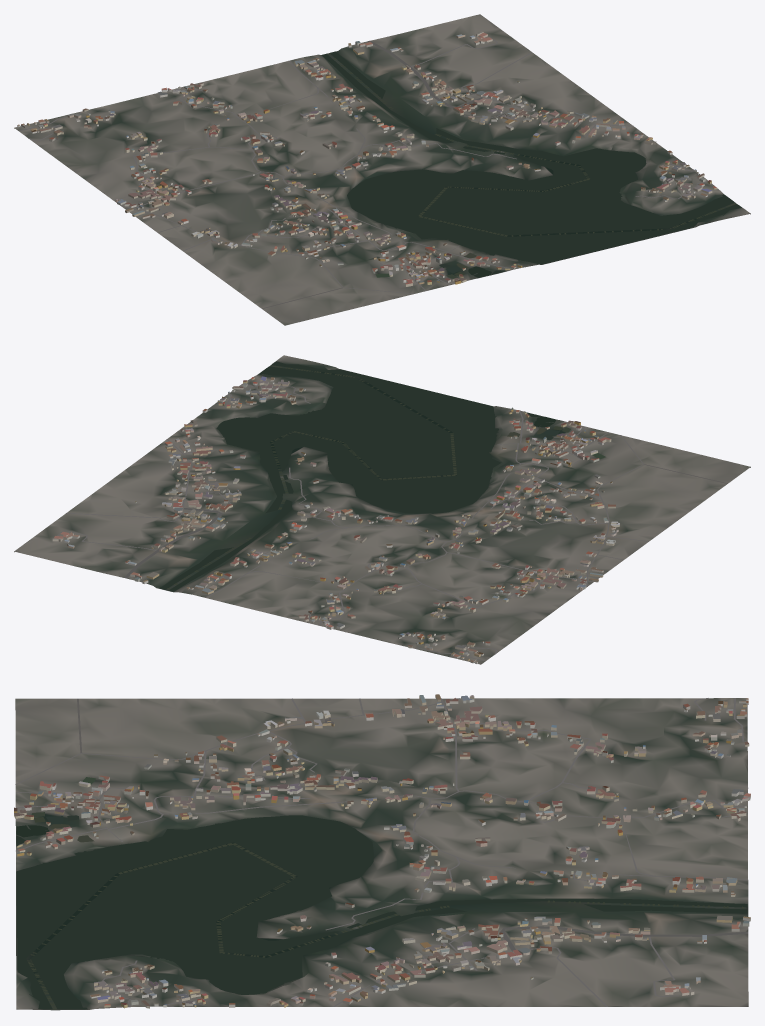
3 views of the same model, one above another, from view 1: azimuth 30°, elevation 25°; view 2: azimuth 150°, elevation 25°; view 3: azimuth 270°, elevation 25° (orthographic). The views are drawn at different scales.
Visible parts, largest first — view 1: ground, water, buildings, roads; view 2: ground, water, buildings, roads; view 3: ground, water, buildings, roads.
Boxes of the visible parts, bbox=[...] form: ground: bbox=[14, 14, 750, 325]; water: bbox=[321, 51, 741, 278]; buildings: bbox=[17, 31, 717, 286]; roads: bbox=[19, 37, 707, 308]; ground: bbox=[14, 355, 750, 664]; water: bbox=[159, 361, 605, 591]; buildings: bbox=[52, 376, 619, 663]; roads: bbox=[57, 384, 727, 661]; ground: bbox=[15, 698, 748, 1010]; water: bbox=[16, 777, 747, 1009]; buildings: bbox=[14, 694, 750, 1008]; roads: bbox=[15, 698, 748, 1007].
Size of the model in its own units: 1414 by 20.54 by 1411.
